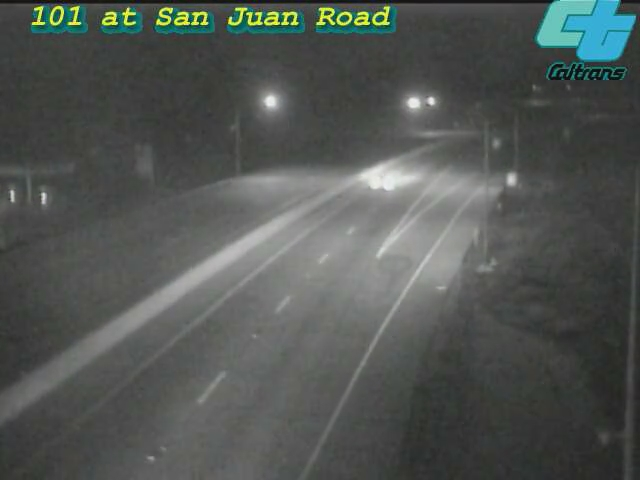vehicle: (348, 138, 428, 218)
